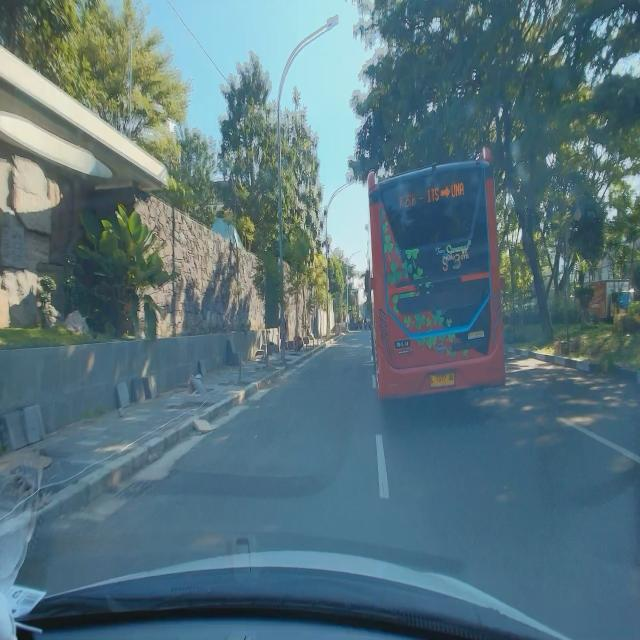bus: (365, 146, 510, 404)
license-plate: (430, 371, 456, 388)
